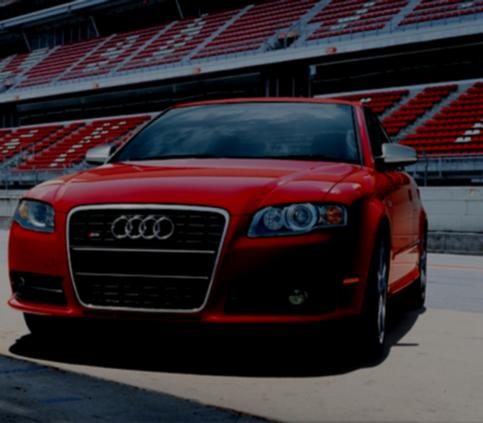Audi: (107, 206, 180, 251)
